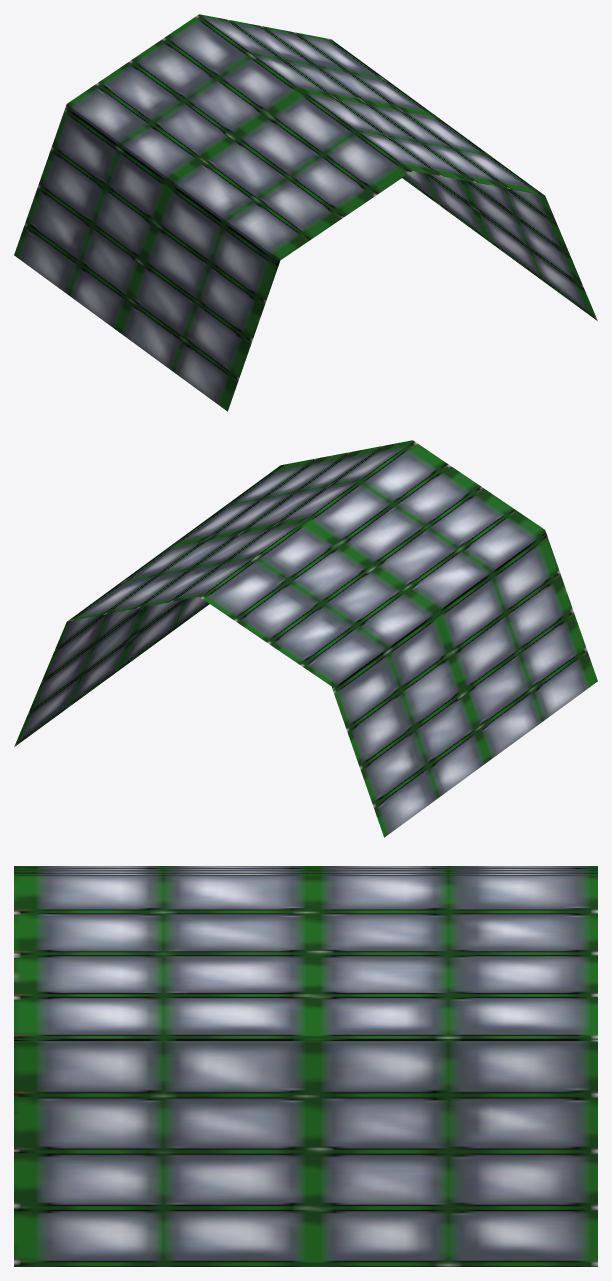
The model's file is Dach_HalbtonneGanz4 [GrünesGlas]_264.glb.
3 views of the same model, one above another, from view 1: azimuth 30°, elevation 25°; view 2: azimuth 150°, elevation 25°; view 3: azimuth 270°, elevation 25° (orthographic). The views are drawn at different scales.
Visible parts, largest first — view 1: pCylinderShape1; view 2: pCylinderShape1; view 3: pCylinderShape1.
Boxes of the visible parts, x1,y1,x2,y2 form: pCylinderShape1: (14,14,597,411); pCylinderShape1: (14,440,597,837); pCylinderShape1: (14,866,597,1266).
Bounding box in the file's own units: 1 × 0.5056 × 1.
Materials: 1 (1 with a texture image).
